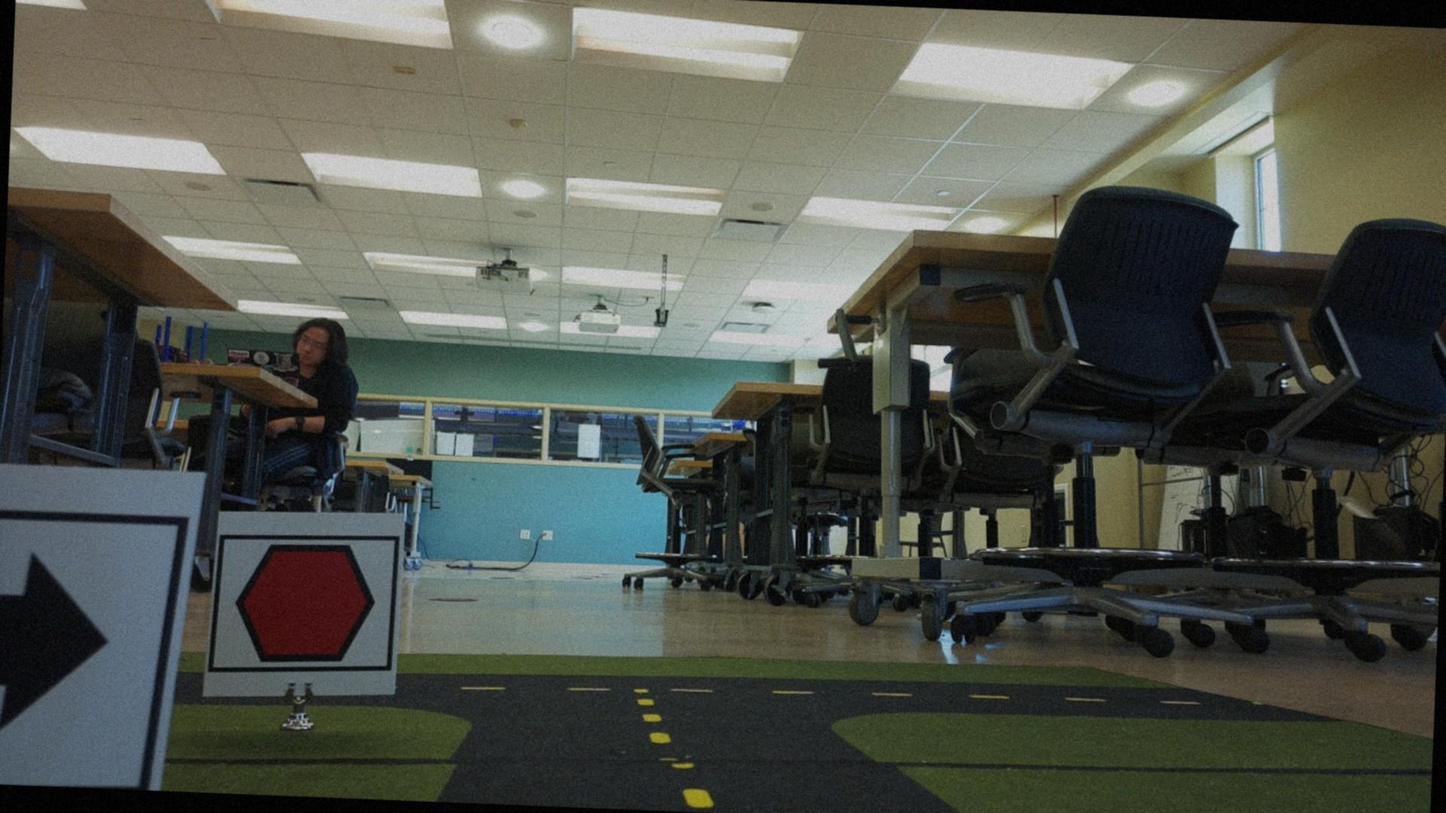stop: (218, 537, 392, 672)
yellowline: (637, 695, 670, 746)
